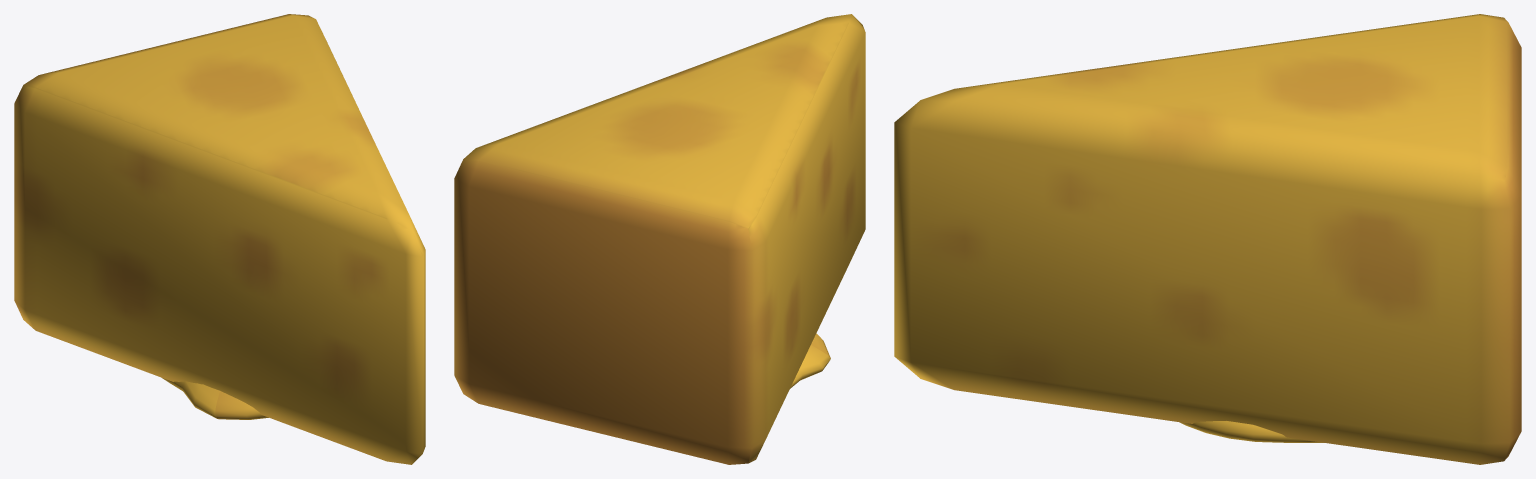
Rendered from cheese.fbx.
The picture shows the model from 3 angles, left to right: view 1: azimuth 30°, elevation 25°; view 2: azimuth 150°, elevation 25°; view 3: azimuth 270°, elevation 25°; orthographic projection. The views are drawn at different scales.
Visible parts, largest first — view 1: cheese, melted cheese; view 2: cheese, melted cheese; view 3: cheese, melted cheese.
Part boxes in pixels (box(x1,y1,x2,y2)): cheese: box(14, 14, 425, 464); melted cheese: box(162, 378, 268, 419); cheese: box(454, 14, 865, 464); melted cheese: box(790, 333, 830, 388); cheese: box(894, 14, 1521, 464); melted cheese: box(1180, 421, 1323, 442).
Bounding box in the file's own units: 0.0583 × 0.0489 × 0.0887.
